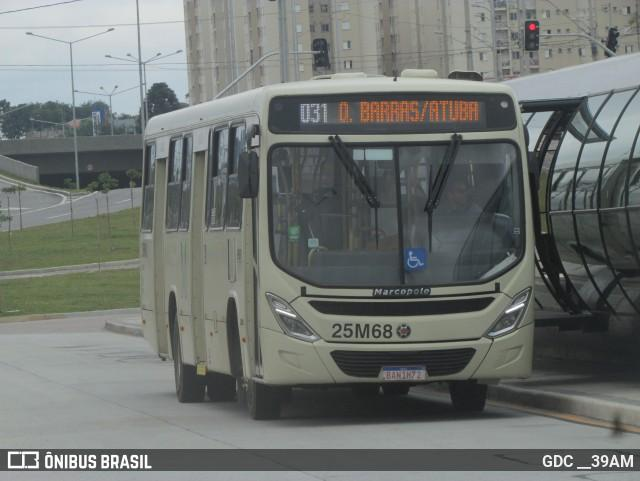BARRAS ATUBA: (356, 99, 484, 126)
